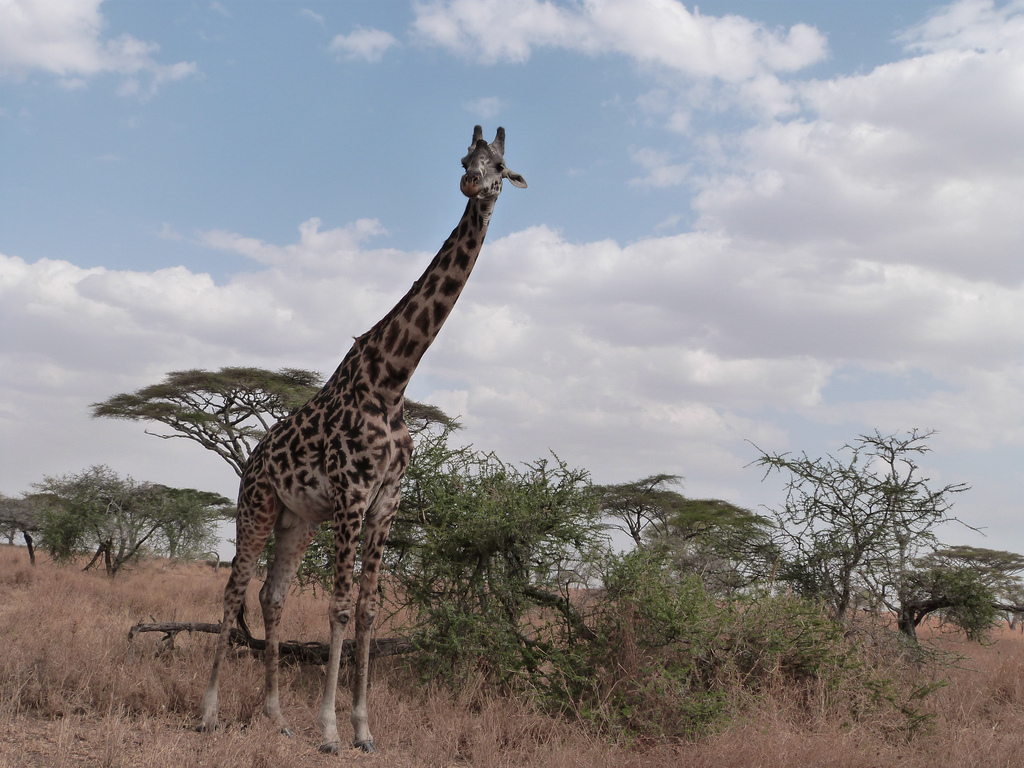giraffe: (200, 122, 537, 746)
